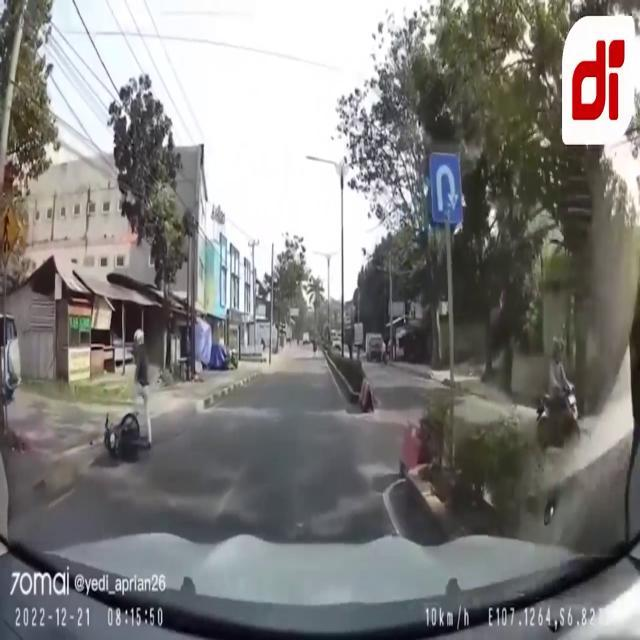normal: (520, 313, 601, 463)
single accident: (82, 393, 167, 486)
